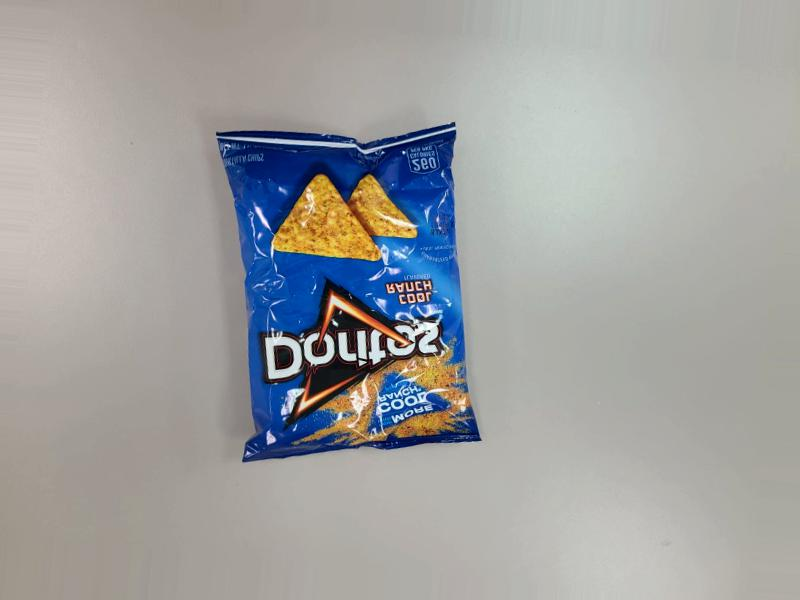doritos: (213, 124, 462, 449)
